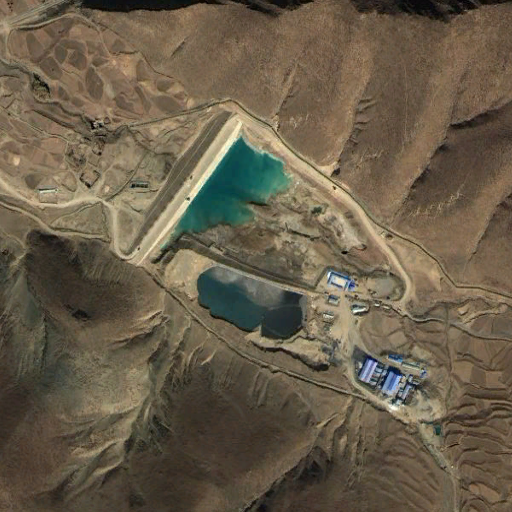tp: (134, 123, 410, 305)
